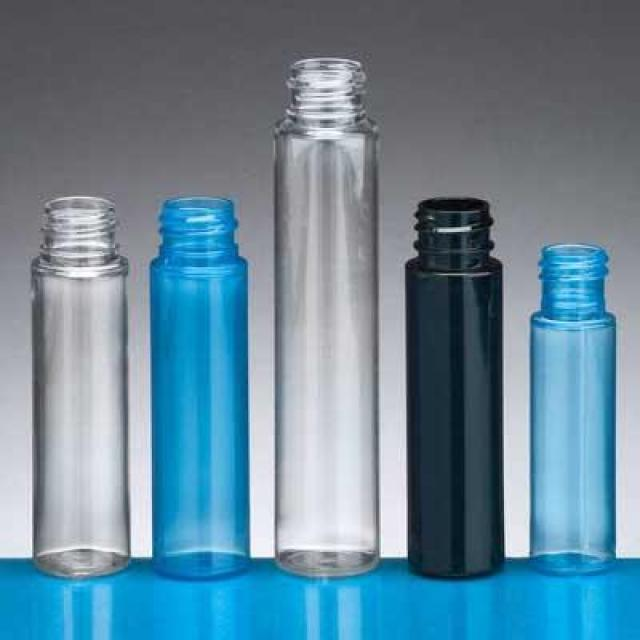plastic_bottle: (268, 44, 393, 579), (4, 186, 145, 584), (399, 194, 516, 587), (147, 187, 261, 582), (528, 243, 629, 585)
